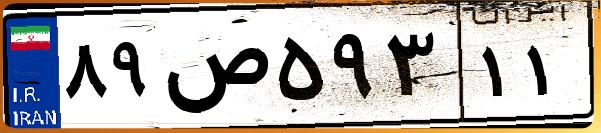1: (475, 38, 525, 113), (525, 38, 570, 115)
3: (385, 28, 445, 110)
5: (270, 28, 330, 110)
8: (57, 26, 110, 100)
9: (330, 28, 385, 110), (110, 28, 158, 98)
ص: (158, 20, 270, 120)
